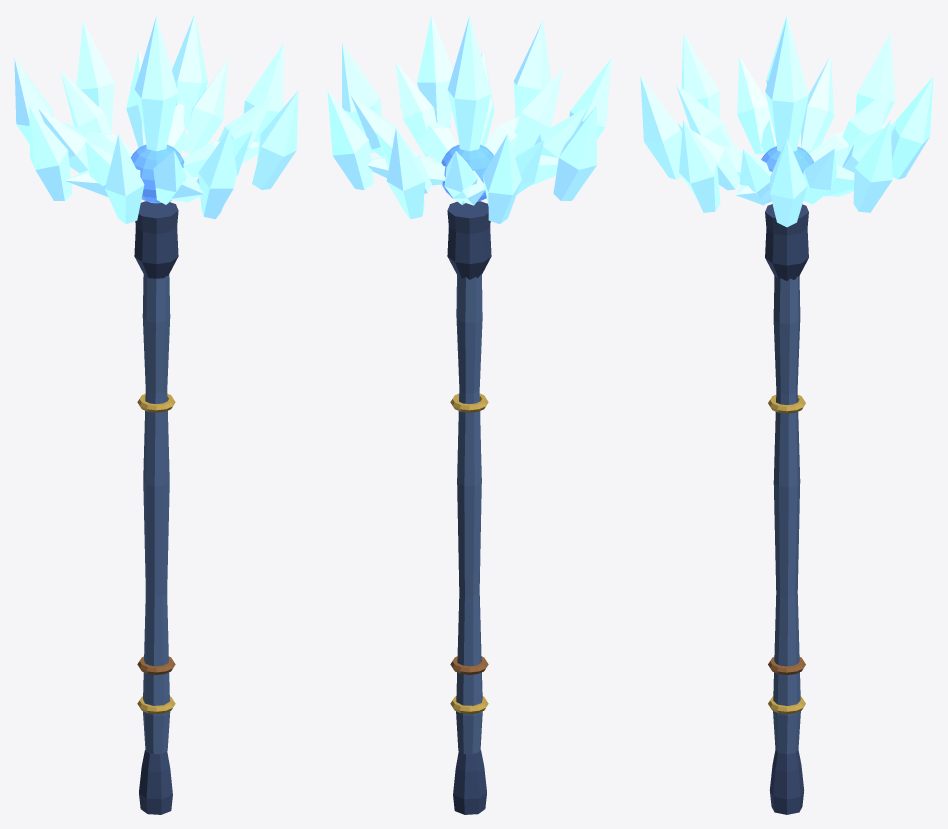
File: staff_frostmace.glb
The picture shows the model from 3 angles, left to right: view 1: azimuth 30°, elevation 25°; view 2: azimuth 150°, elevation 25°; view 3: azimuth 270°, elevation 25°; orthographic projection.
Visible parts, largest first — view 1: Fm_Shaft, Fm_Top, Fm_Neck, Fm_S0_7, Fm_S0_4, Fm_S0_6, Fm_S0_1, Fm_S0_5, Fm_S0_2, Fm_S1_0, Fm_Butt, Fm_S0_0 (+12 smaller); view 2: Fm_Shaft, Fm_Top, Fm_Neck, Fm_S0_1, Fm_S0_4, Fm_S0_7, Fm_S0_2, Fm_S0_3, Fm_S0_6, Fm_Butt, Fm_S1_5, Fm_S0_0 (+10 smaller); view 3: Fm_Shaft, Fm_Top, Fm_Neck, Fm_S0_2, Fm_S0_6, Fm_S0_7, Fm_S0_1, Fm_S0_0, Fm_S1_3, Fm_Butt, Fm_S1_4, Fm_S0_5 (+10 smaller).
Boxes of the visible parts, <box> form: Fm_Shaft: <box>142,274,170,754</box>; Fm_Top: <box>134,16,178,151</box>; Fm_Neck: <box>134,201,178,278</box>; Fm_S0_7: <box>252,90,298,189</box>; Fm_S0_4: <box>29,105,72,200</box>; Fm_S0_6: <box>198,128,236,219</box>; Fm_S0_1: <box>172,14,207,129</box>; Fm_S0_5: <box>105,134,144,223</box>; Fm_S0_2: <box>76,21,114,132</box>; Fm_S1_0: <box>183,60,227,153</box>; Fm_Butt: <box>139,749,172,814</box>; Fm_S0_0: <box>243,43,283,141</box>; Fm_Shaft: <box>456,274,482,754</box>; Fm_Top: <box>447,16,491,151</box>; Fm_Neck: <box>447,201,491,279</box>; Fm_S0_1: <box>327,90,373,189</box>; Fm_S0_4: <box>553,105,596,200</box>; Fm_S0_7: <box>417,14,452,128</box>; Fm_S0_2: <box>386,128,425,219</box>; Fm_S0_3: <box>482,134,521,223</box>; Fm_S0_6: <box>513,21,551,117</box>; Fm_Butt: <box>453,749,486,814</box>; Fm_S1_5: <box>512,69,563,155</box>; Fm_S0_0: <box>342,43,382,153</box>; Fm_Shaft: <box>773,276,800,754</box>; Fm_Top: <box>765,18,808,151</box>; Fm_Neck: <box>765,204,808,280</box>; Fm_S0_2: <box>891,76,933,179</box>; Fm_S0_6: <box>640,76,681,179</box>; Fm_S0_7: <box>679,120,720,212</box>; Fm_S0_1: <box>853,120,892,212</box>; Fm_S0_0: <box>770,138,807,227</box>; Fm_S1_3: <box>801,55,834,153</box>; Fm_Butt: <box>769,750,804,814</box>; Fm_S1_4: <box>737,56,770,154</box>; Fm_S0_5: <box>681,32,719,118</box>.
Bounding box in the file's own units: 0.8134 × 2.42 × 0.8134.
